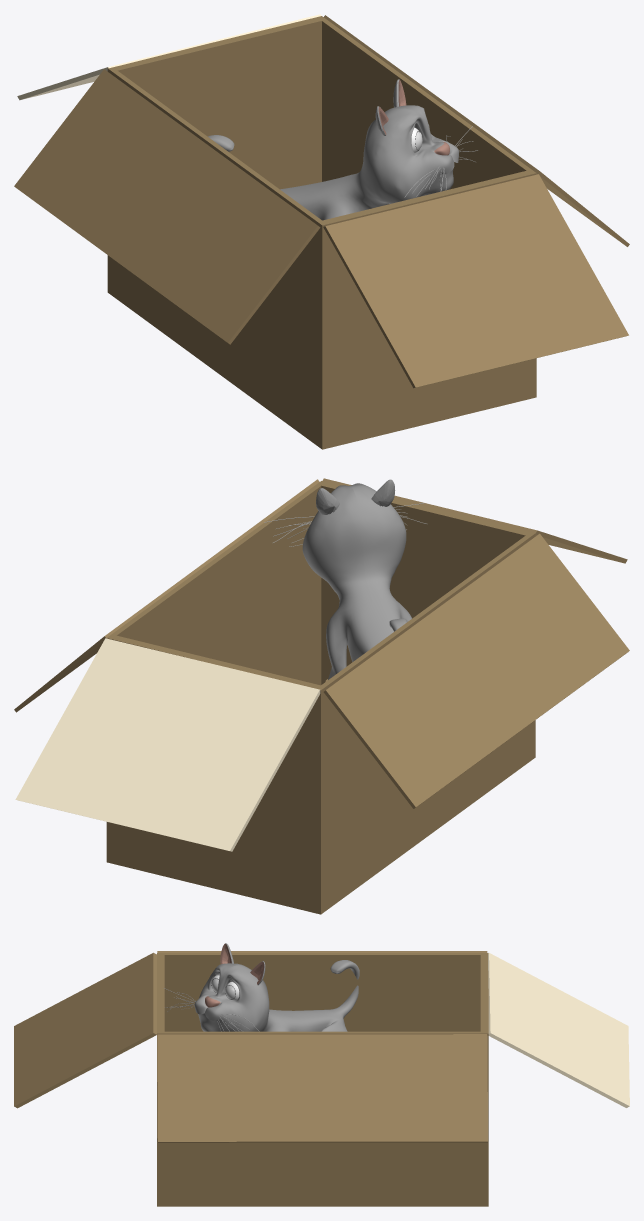
File: M_Atun en Caja.fbx
3 renders of one model, top to bottom at view 1: azimuth 30°, elevation 25°; view 2: azimuth 150°, elevation 25°; view 3: azimuth 270°, elevation 25°, orthographic. The views are drawn at different scales.
Visible parts, largest first — view 1: pCube22 (×2), Caja, C_Atun, pCube24 (×2); view 2: Caja, pCube24 (×2), pCube22 (×2), C_Atun; view 3: pCube24 (×2), Caja, pCube22 (×2), C_Atun.
Part boxes in pixels (left/top/right/bottom): pCube22 (×2): left=14, top=69, right=628, bottom=388; Caja: left=107, top=16, right=536, bottom=449; C_Atun: left=208, top=105, right=459, bottom=220; pCube24 (×2): left=17, top=14, right=629, bottom=246; Caja: left=106, top=481, right=535, bottom=914; pCube24 (×2): left=14, top=479, right=320, bottom=851; pCube22 (×2): left=322, top=478, right=629, bottom=808; C_Atun: left=302, top=483, right=411, bottom=681; pCube24 (×2): left=157, top=953, right=629, bottom=1142; Caja: left=157, top=953, right=488, bottom=1206; pCube22 (×2): left=14, top=951, right=487, bottom=1108; C_Atun: left=194, top=960, right=359, bottom=1031.
Bounding box in the file's own units: 7.15 × 4.85 × 12.28.
